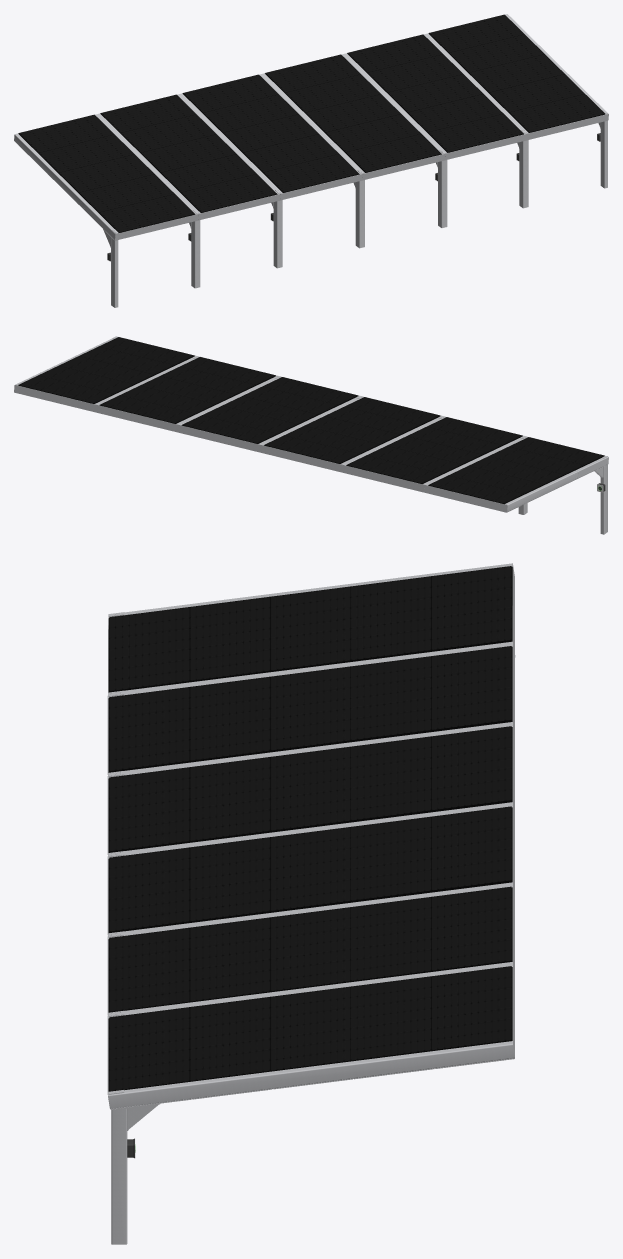
The model's file is Cap_6.glb.
3 views of the same model, one above another, from view 1: azimuth 30°, elevation 25°; view 2: azimuth 150°, elevation 25°; view 3: azimuth 270°, elevation 25° (orthographic). The views are drawn at different scales.
Parts seen in each view (by area): view 1: Left.083, Middle.042, Middle.040, Middle.039, Middle.041, Middle.045, Right.010; view 2: Left.083, Middle.039, Middle.041, Middle.042, Middle.040, Middle.045; view 3: Middle.045, Middle.040, Middle.041, Middle.039, Middle.042, Left.083, Right.010.
Part boxes in pixels (x1=…): Left.083: x1=14, y1=114, x2=198, y2=307; Middle.042: x1=342, y1=34, x2=527, y2=227; Middle.040: x1=177, y1=74, x2=362, y2=268; Middle.039: x1=95, y1=94, x2=280, y2=288; Middle.041: x1=259, y1=54, x2=445, y2=248; Middle.045: x1=424, y1=14, x2=608, y2=208; Right.010: x1=505, y1=14, x2=608, y2=188; Left.083: x1=424, y1=437, x2=608, y2=534; Middle.039: x1=342, y1=417, x2=527, y2=514; Middle.041: x1=177, y1=377, x2=363, y2=452; Middle.042: x1=95, y1=357, x2=281, y2=432; Middle.040: x1=260, y1=397, x2=445, y2=472; Middle.045: x1=14, y1=337, x2=199, y2=412; Middle.045: x1=107, y1=962, x2=514, y2=1109; Middle.040: x1=107, y1=722, x2=514, y2=855; Middle.041: x1=107, y1=802, x2=514, y2=935; Middle.039: x1=107, y1=641, x2=514, y2=775; Middle.042: x1=107, y1=882, x2=514, y2=1015; Left.083: x1=108, y1=563, x2=515, y2=694; Right.010: x1=108, y1=1041, x2=514, y2=1244.
Bounding box in the file's own units: 16.03 × 3.11 × 5.7.
Materials: 5 (5 with a texture image).
